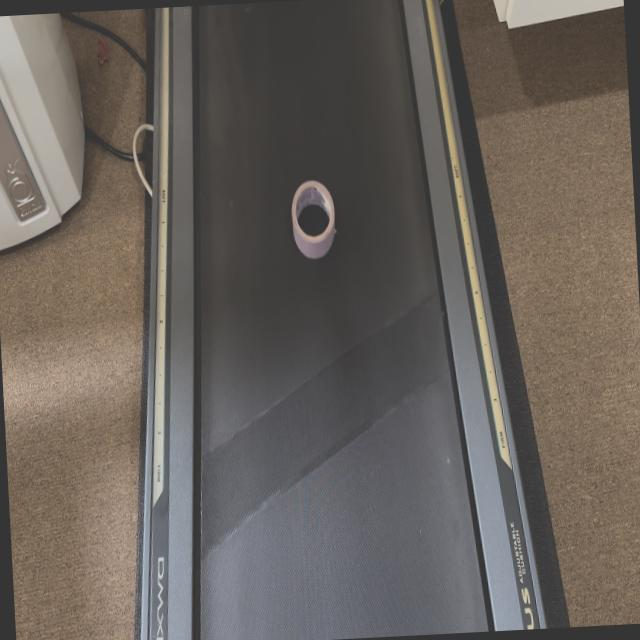Trash: (282, 172, 360, 266)
